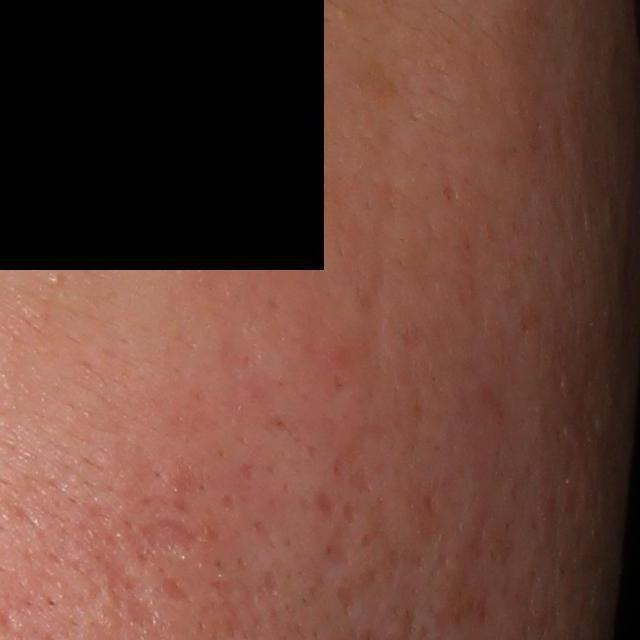atrophic_scar: (105, 557, 159, 626), (139, 517, 203, 553), (325, 519, 353, 570), (160, 578, 192, 606)
